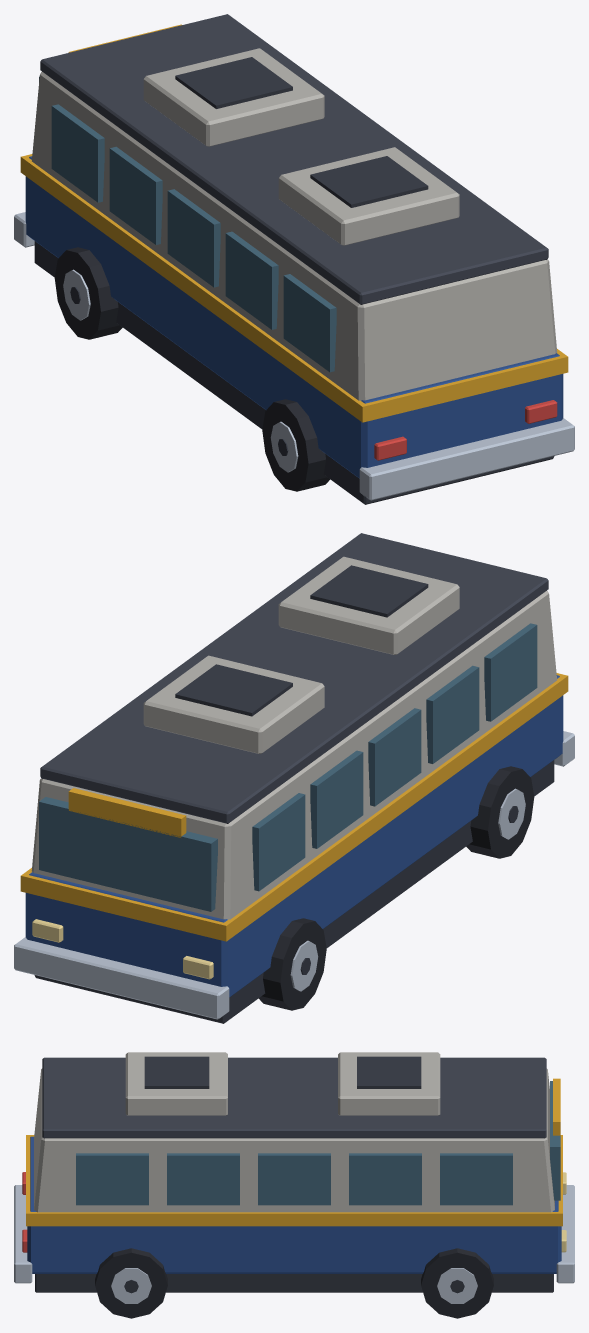
File: Stylized_Apoc_Vehicle_03_Abandoned_Bus.fbx
3 views of the same model, one above another, from view 1: azimuth 30°, elevation 25°; view 2: azimuth 150°, elevation 25°; view 3: azimuth 270°, elevation 25° (orthographic). The views are drawn at different scales.
Parts seen in each view (by area): view 1: Stylized_Apoc_Vehicle_03_Abandoned_Bus; view 2: Stylized_Apoc_Vehicle_03_Abandoned_Bus; view 3: Stylized_Apoc_Vehicle_03_Abandoned_Bus.
Part boxes in pixels (<box>): Stylized_Apoc_Vehicle_03_Abandoned_Bus: <box>14,14,574,504</box>; Stylized_Apoc_Vehicle_03_Abandoned_Bus: <box>14,533,574,1023</box>; Stylized_Apoc_Vehicle_03_Abandoned_Bus: <box>14,1052,574,1318</box>.
Size of the model in its own units: 2.77 by 2.97 by 7.4.
